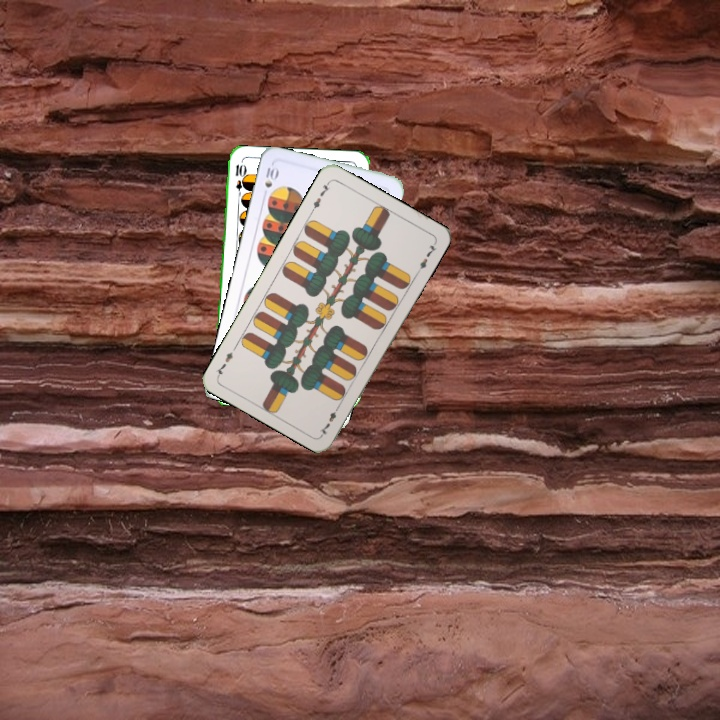E10: (232, 160, 245, 201)
E7: (315, 401, 343, 438), (307, 178, 333, 215)
S10: (259, 161, 281, 200)
